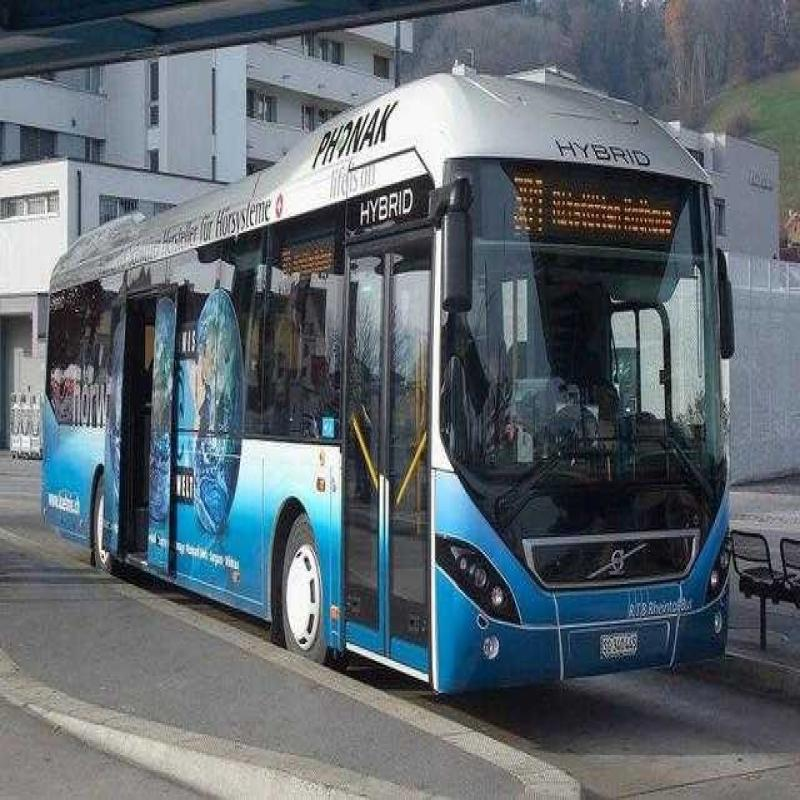bus: (62, 62, 724, 698)
